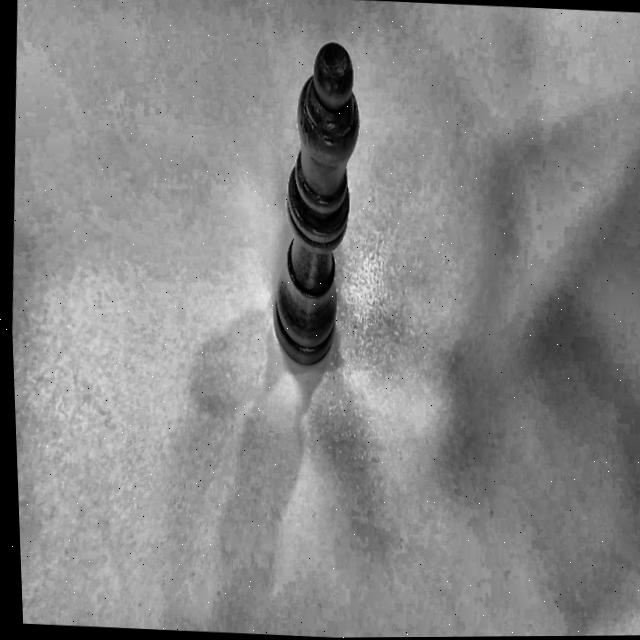black-queen: (244, 19, 384, 385)
